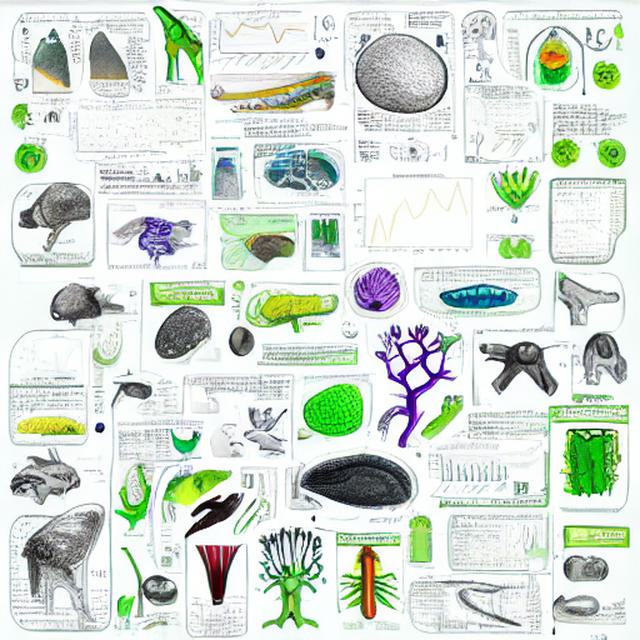Graph: (348, 165, 485, 259), (206, 8, 311, 71), (68, 107, 157, 159), (426, 444, 511, 495), (29, 333, 89, 374)
